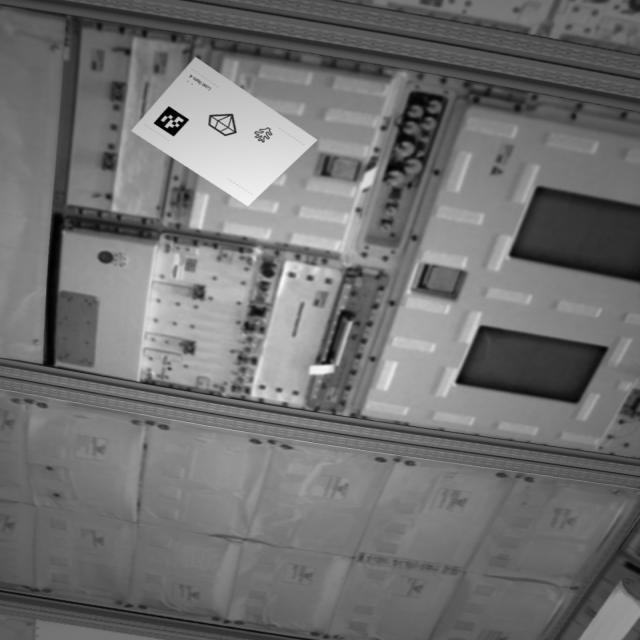coral: (253, 126, 274, 146)
diamond: (207, 110, 243, 139)
